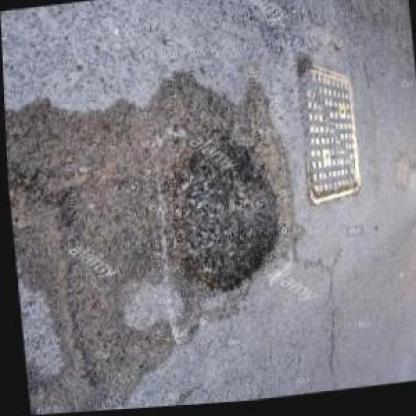pothole: (157, 123, 284, 301)
